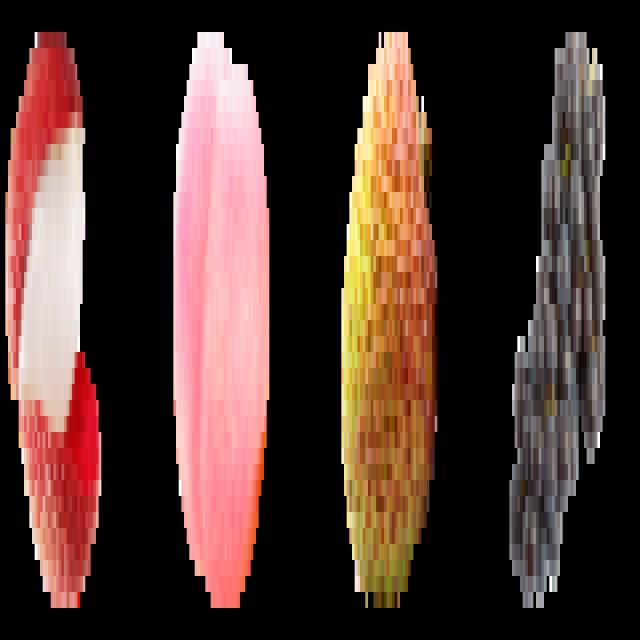grape: (507, 16, 614, 628)
lychee: (331, 16, 448, 621), (3, 16, 106, 614)
peach: (168, 16, 275, 615)
